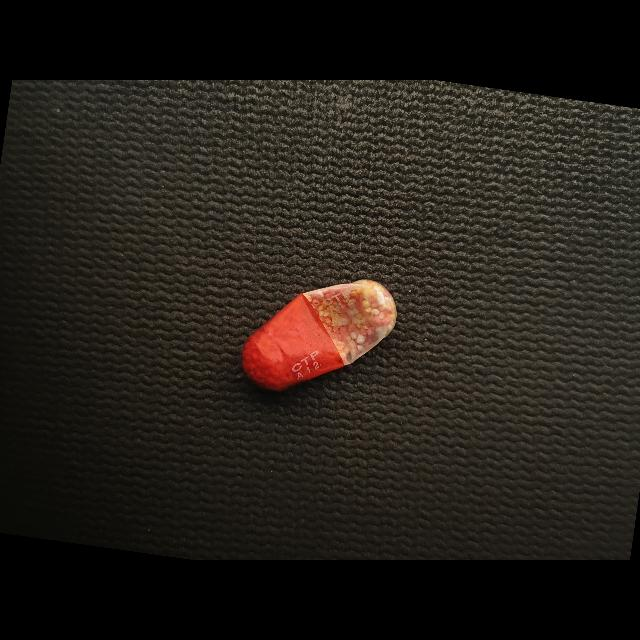Defective Capsule: (242, 280, 397, 391)
